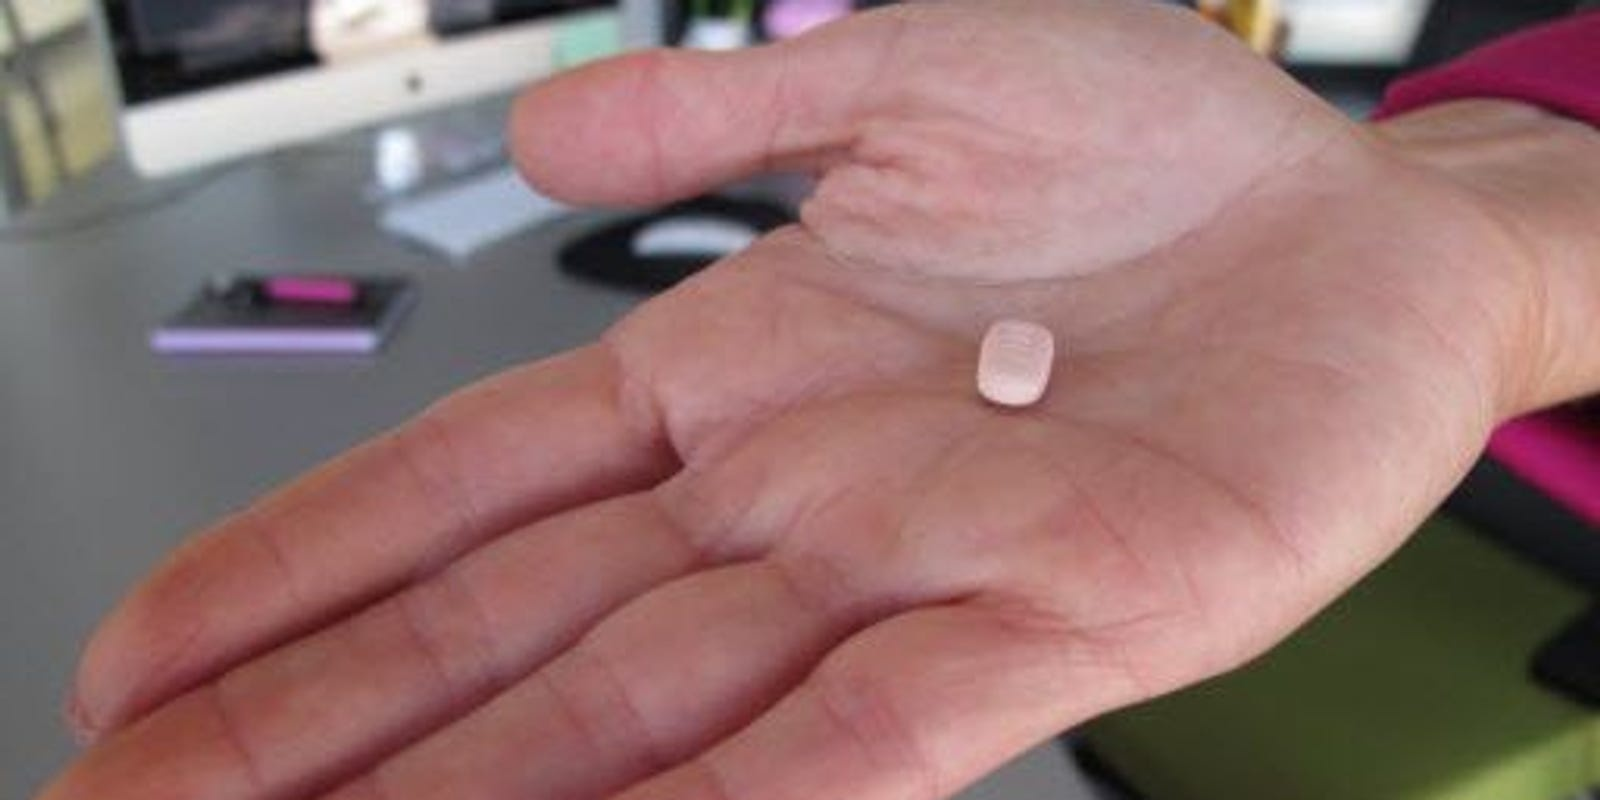pills: (969, 299, 1078, 411)
